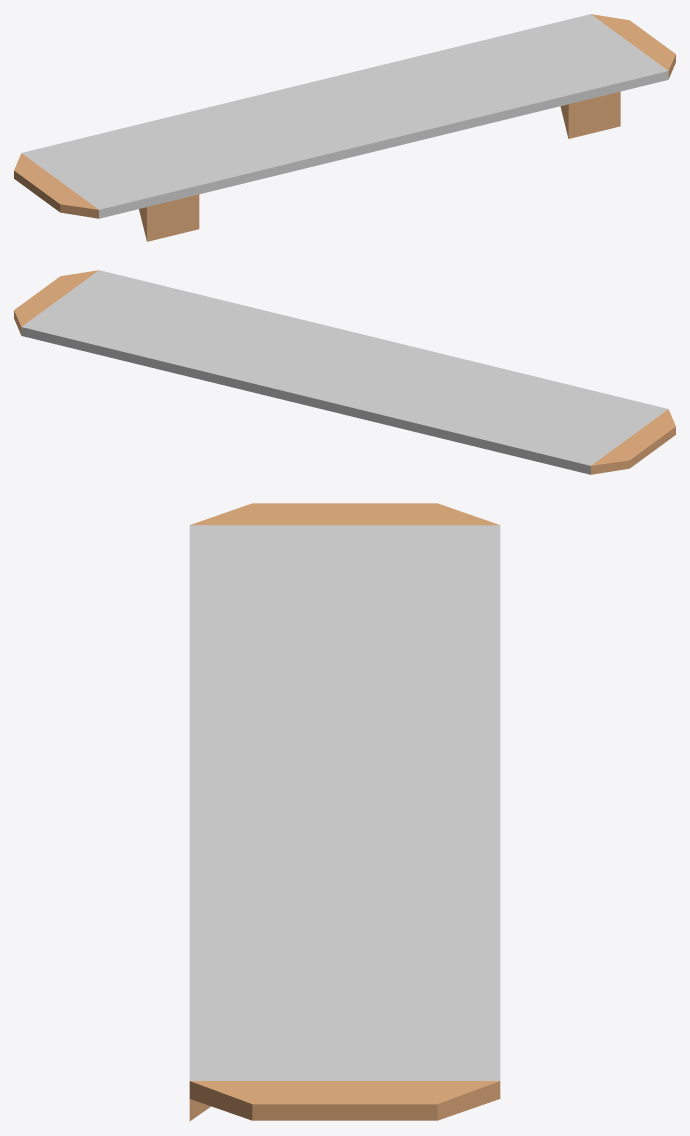
Rendered from Shelf.fbx.
3 views of the same model, one above another, from view 1: azimuth 30°, elevation 25°; view 2: azimuth 150°, elevation 25°; view 3: azimuth 270°, elevation 25° (orthographic). The views are drawn at different scales.
Parts seen in each view (by area): view 1: Cube, Cube.002; view 2: Cube; view 3: Cube.
Boxes of the visible parts, x1=… form: Cube: x1=14, y1=14, x2=675, y2=218; Cube.002: x1=139, y1=91, x2=620, y2=241; Cube: x1=14, y1=270, x2=675, y2=474; Cube: x1=189, y1=503, x2=500, y2=1120.
Bounding box in the file's own units: 2361 × 160 × 516.
